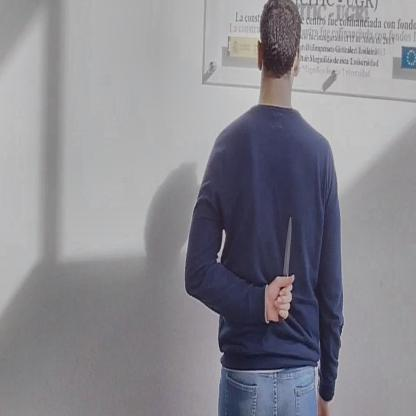knife: (274, 208, 297, 330)
